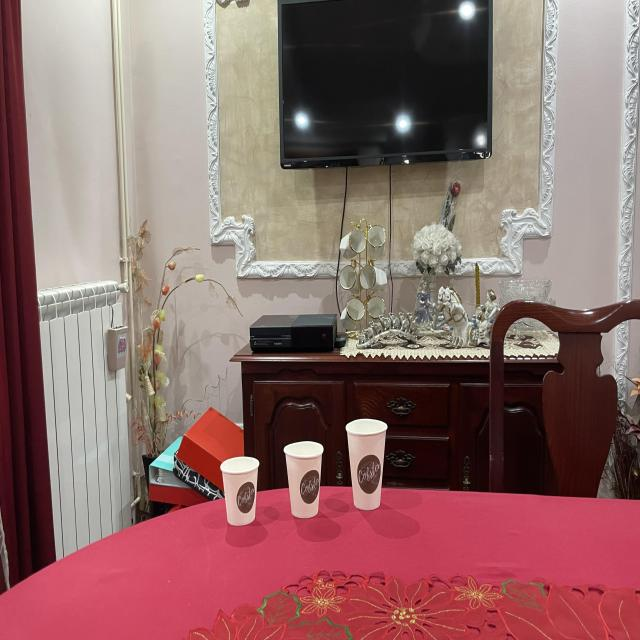big: (342, 413, 392, 515)
medium: (281, 439, 327, 516)
small: (220, 456, 262, 527)
